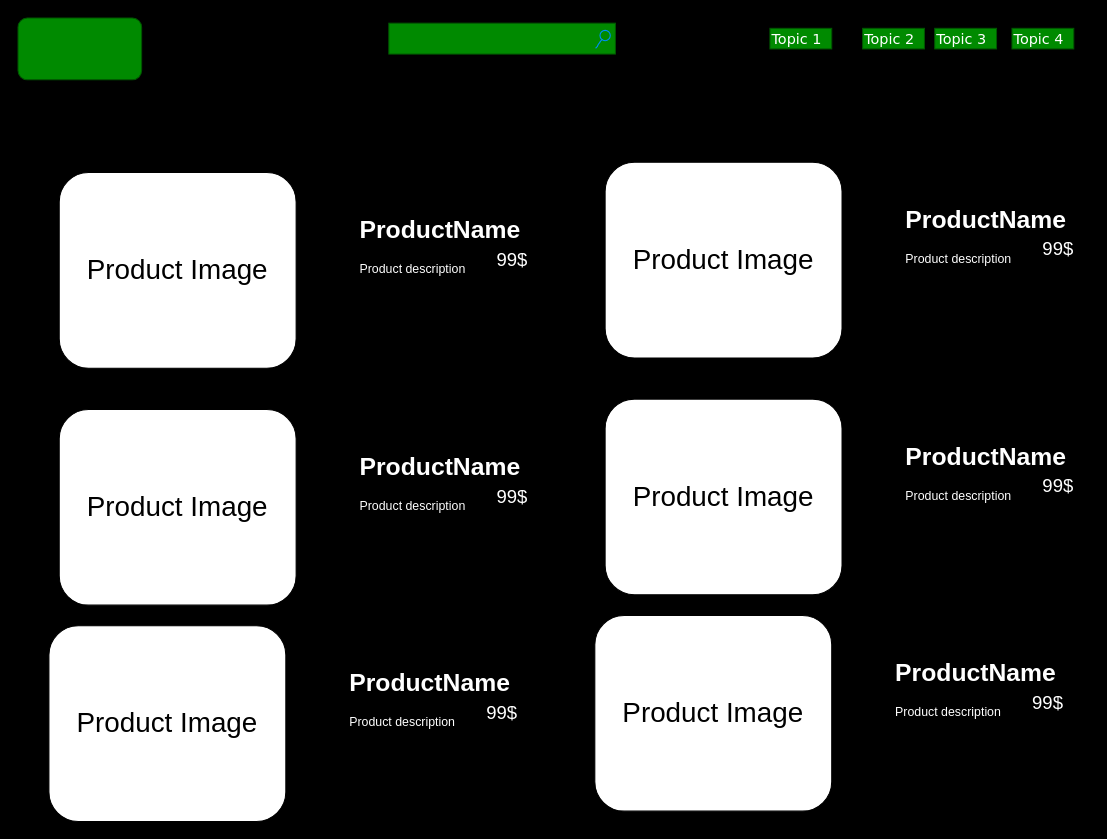
Some shapes in this 1107 by 839 pixel diagram are drawn without their labels. Each missing label, with the centre of its shape:
"LOGO" belongs at (x=79, y=48).
"Search" belongs at (x=501, y=38).
